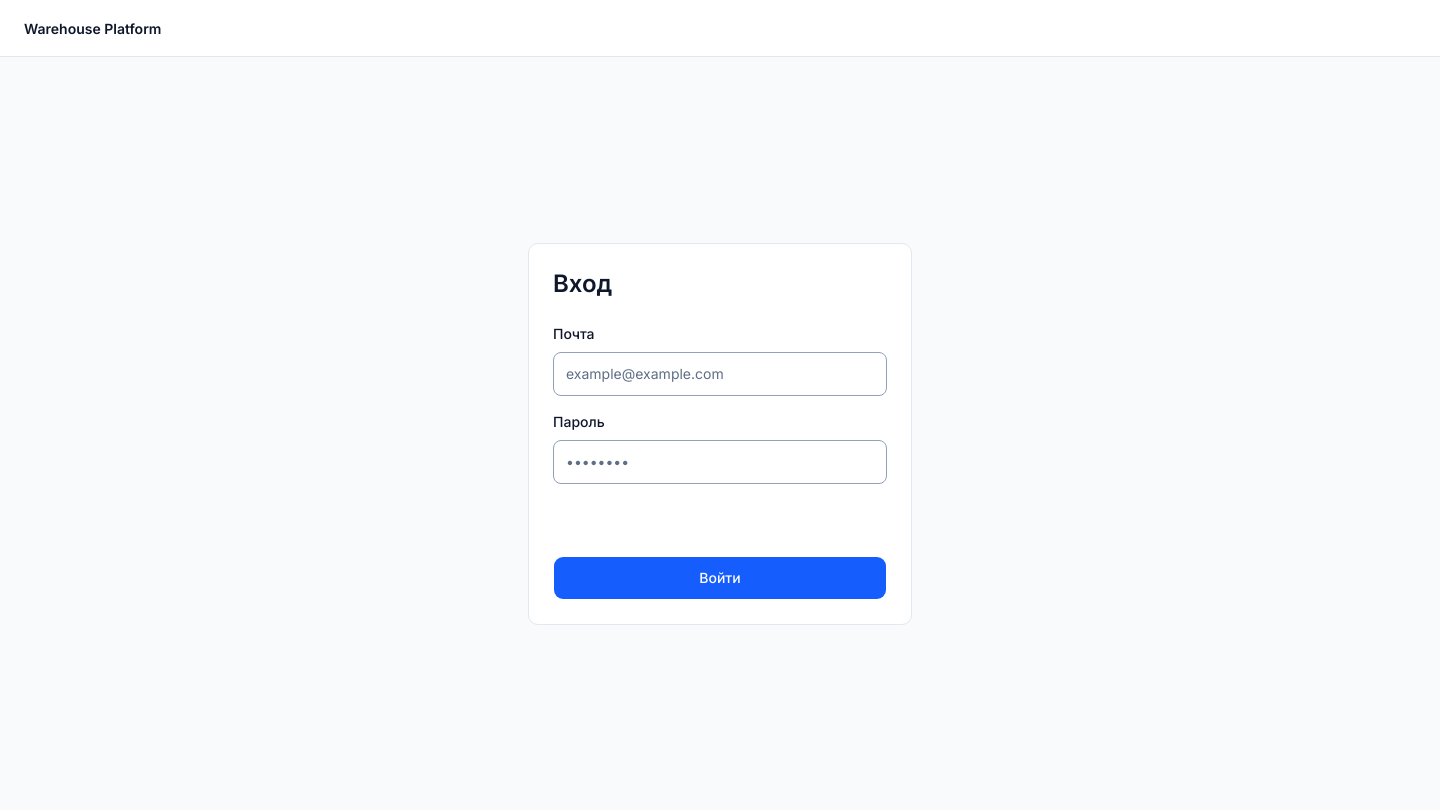
Scenario: LoginPage › показывает ошибку, если почта пустая, а пароль заполнен
Type "secret" into the password field labelled "Пароль". click: [720, 462]
box: [553,440,887,484]
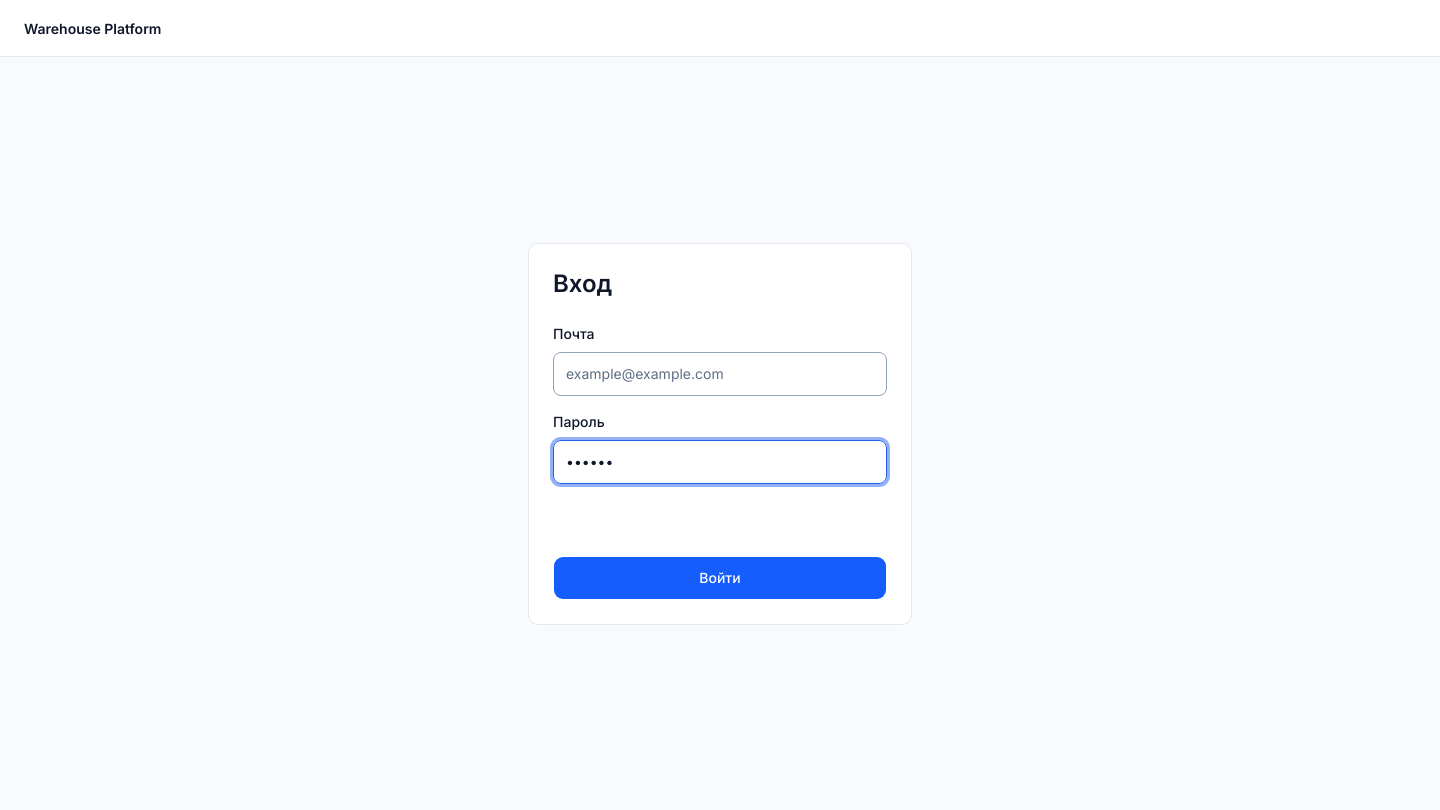
Click the button "Войти". click: [720, 578]
box: [553,556,887,600]
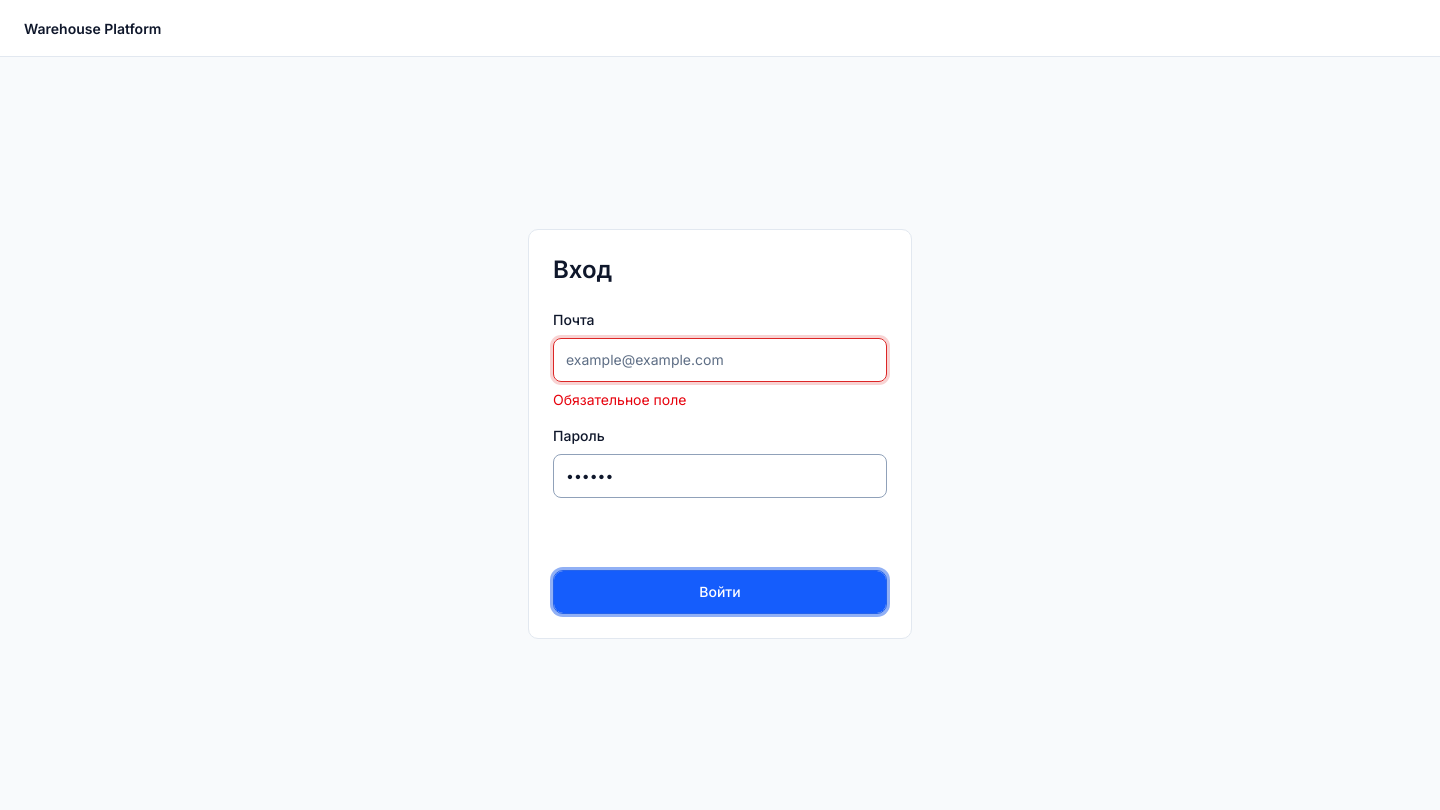
Expected: the field labelled "Почта" is marked as invalid, [553,338,887,382]
